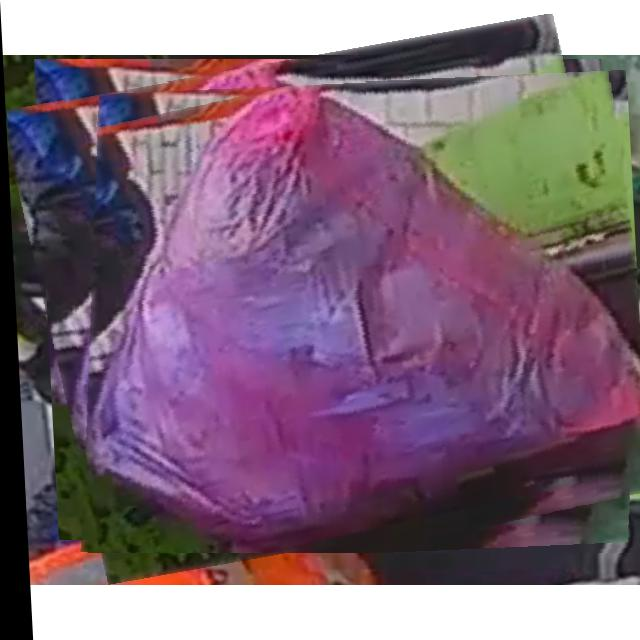other_trashbag: (77, 82, 639, 552)
